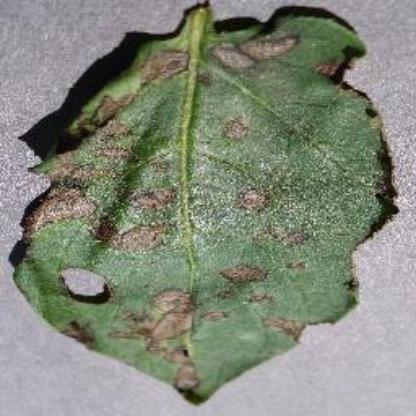Early-Blight: (13, 0, 406, 406)
